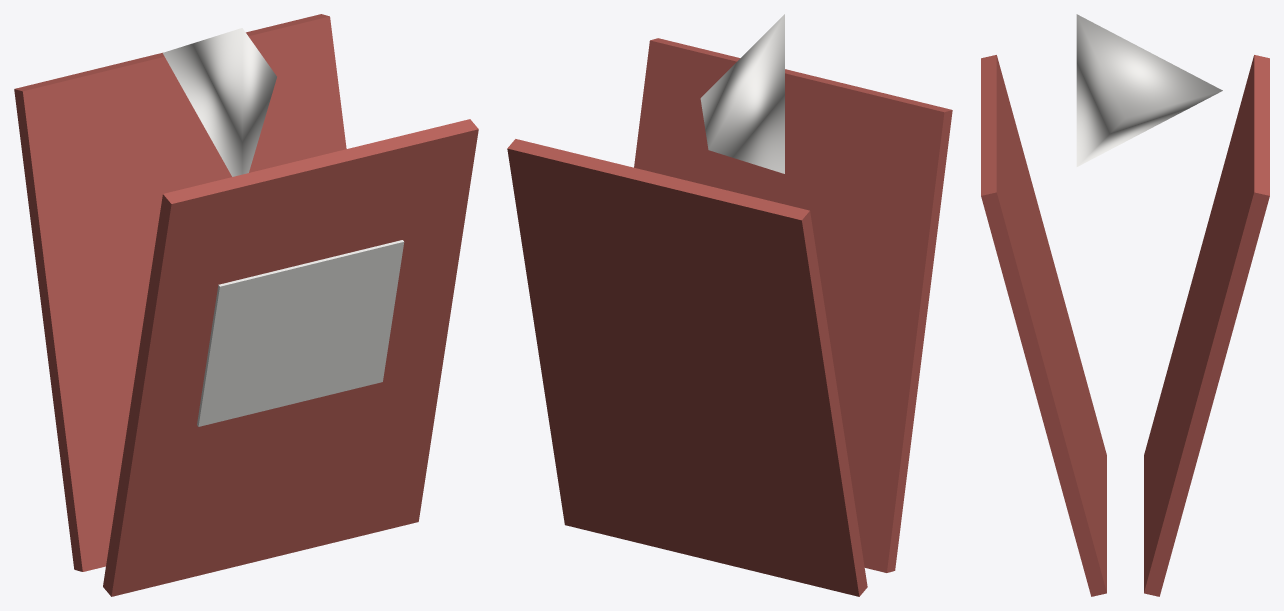
File: prop_tate_triangle_red.glb
3 renders of one model, left to right at view 1: azimuth 30°, elevation 25°; view 2: azimuth 150°, elevation 25°; view 3: azimuth 270°, elevation 25°, orthographic. The views are drawn at different scales.
Parts seen in each view (by area): view 1: tate_triangle_red; view 2: tate_triangle_red; view 3: tate_triangle_red.
Boxes of the visible parts, x1,y1,x2,y2 form: tate_triangle_red: (14,14,478,596); tate_triangle_red: (507,14,952,596); tate_triangle_red: (981,14,1269,596).
Size of the model in its own units: 1 by 1.7 by 0.8872.
